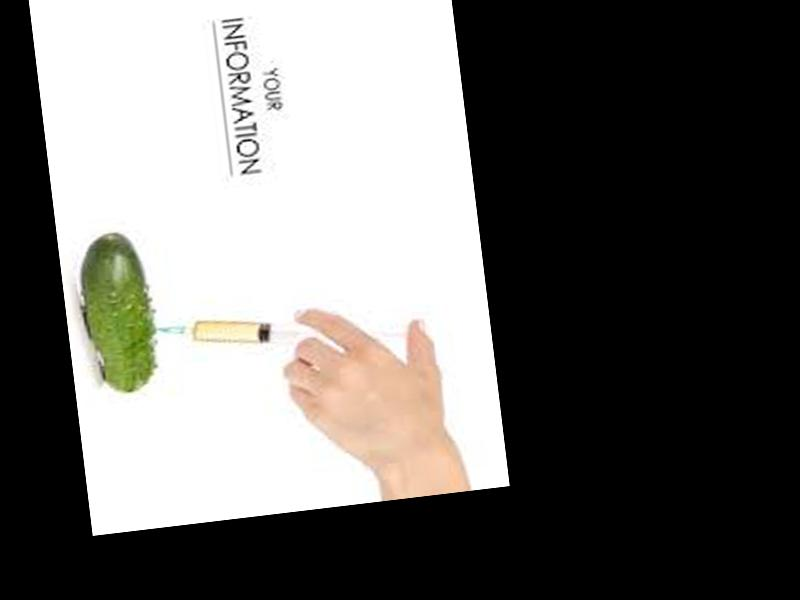Cucumber: (78, 229, 162, 398)
